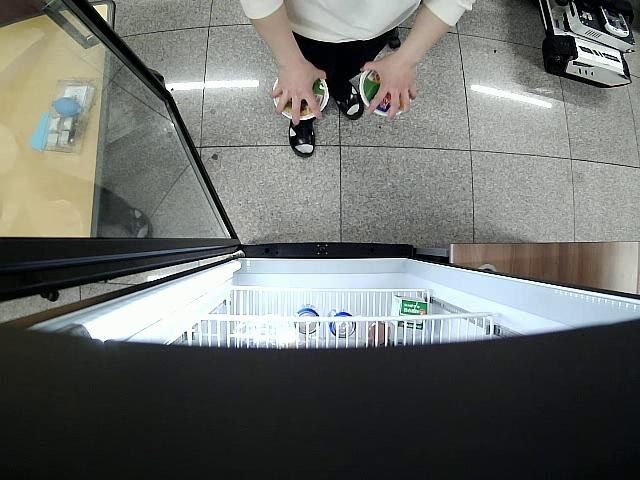00_hand: (361, 57, 419, 118), (270, 66, 326, 121)
09_yukGaeJang: (273, 77, 329, 121), (361, 69, 409, 117)
